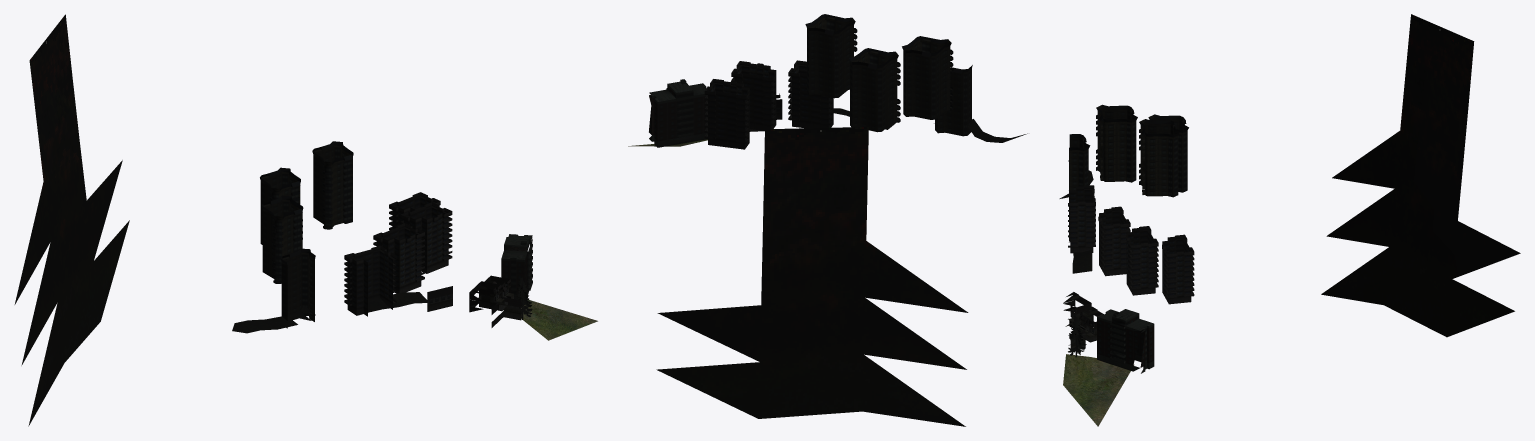
Rendered from cell_2_-19.gltf.
3 renders of one model, left to right at view 1: azimuth 30°, elevation 25°; view 2: azimuth 150°, elevation 25°; view 3: azimuth 270°, elevation 25°, orthographic. The views are drawn at different scales.
Visible parts, largest first — view 1: cell_2_-19; view 2: cell_2_-19; view 3: cell_2_-19.
Boxes of the visible parts, x1,y1,x2,y2 form: cell_2_-19: [14, 14, 597, 426]; cell_2_-19: [628, 14, 1027, 426]; cell_2_-19: [1059, 14, 1520, 426].
Bounding box in the file's own units: 317 × 213 × 291.
Materials: 14 (14 with a texture image).
